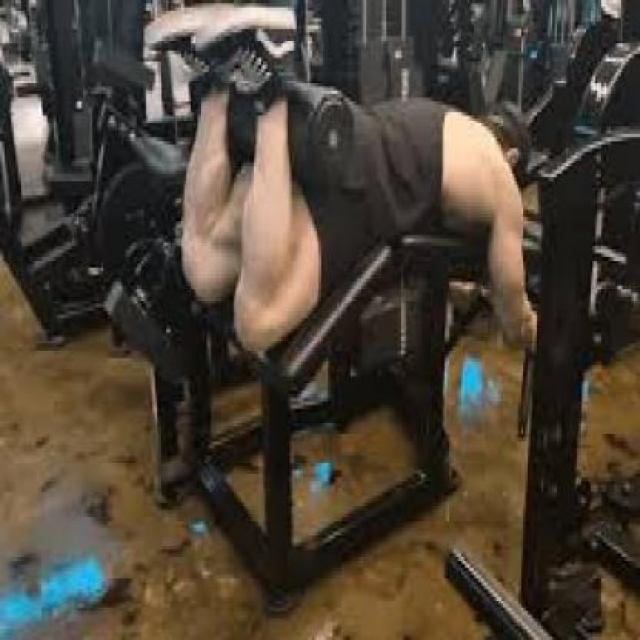reg curl machine: (120, 8, 600, 583)
